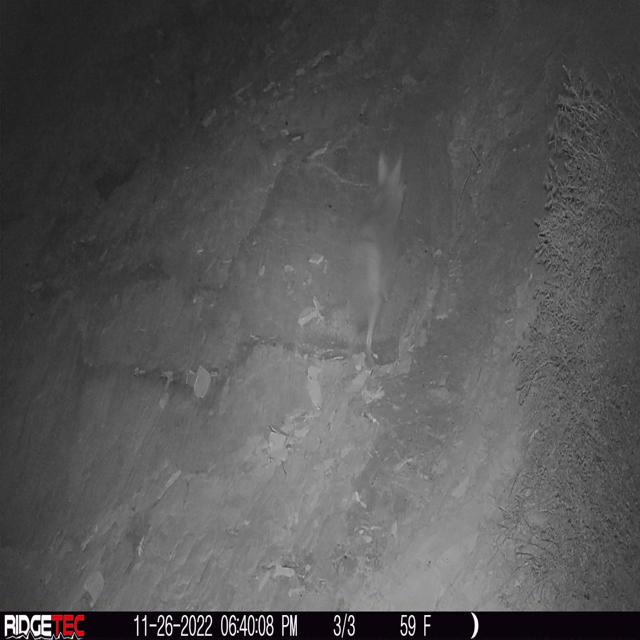coyote: (347, 148, 408, 368)
